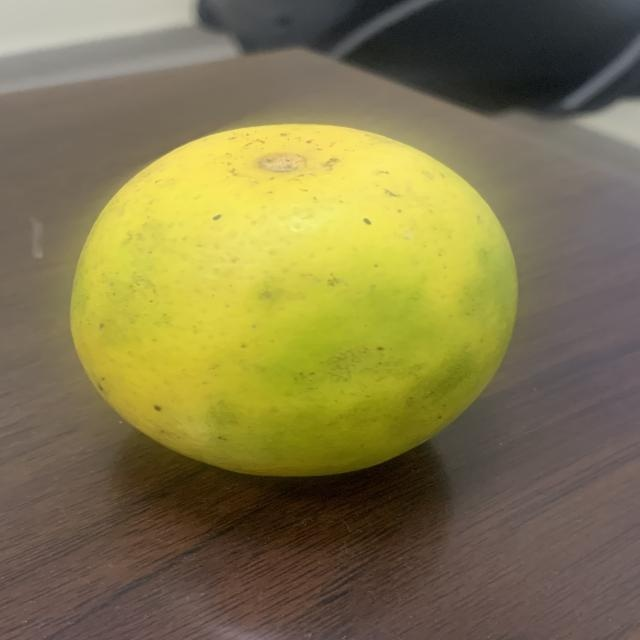agrume: (61, 112, 527, 485)
